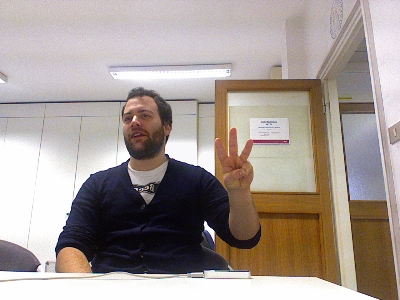三分: (214, 126, 254, 192)
